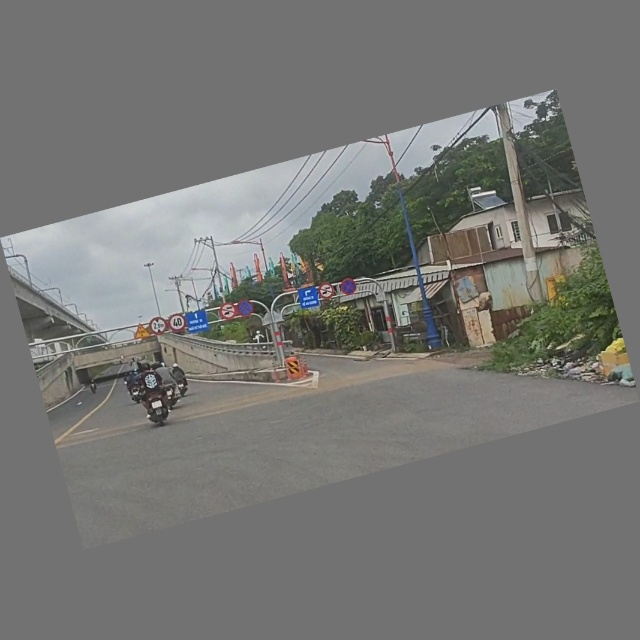P.107: (217, 301, 239, 323), (316, 281, 336, 302)
P.117*: (148, 315, 169, 338)
P.127*40: (167, 312, 188, 334)
P.130: (338, 277, 359, 298), (236, 299, 255, 320)
W.239b*: (131, 321, 151, 342)
